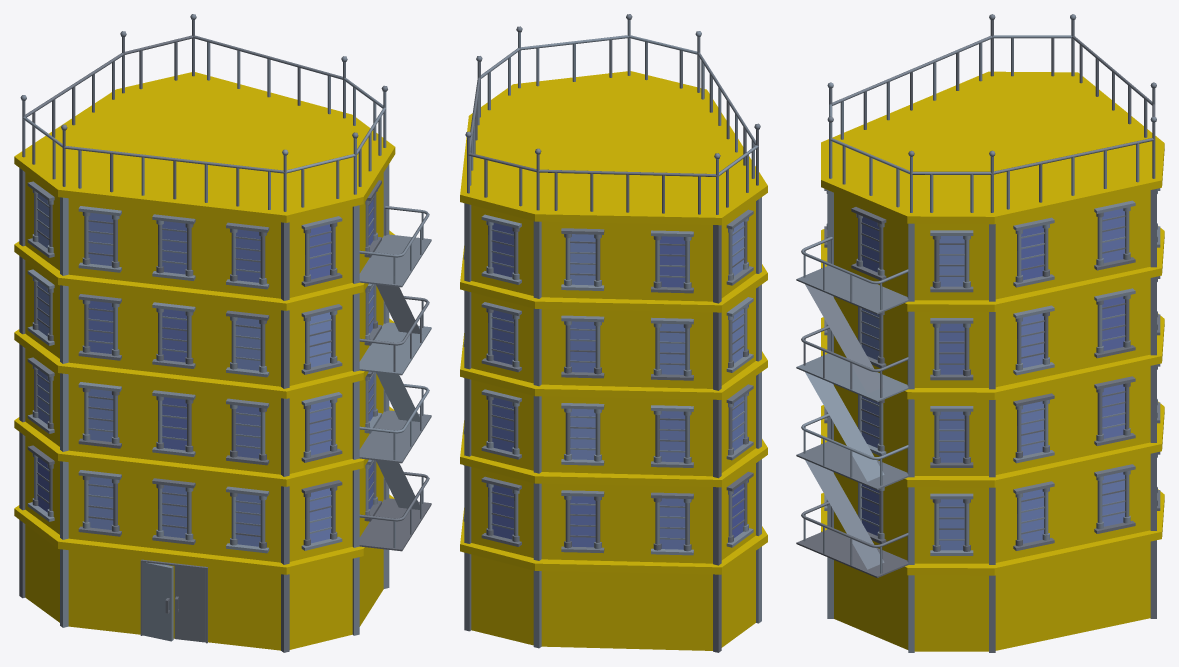
File: Building Procedural.008.fbx
3 renders of one model, left to right at view 1: azimuth 30°, elevation 25°; view 2: azimuth 150°, elevation 25°; view 3: azimuth 270°, elevation 25°, orthographic.
Parts seen in each view (by area): view 1: Building Procedural.008; view 2: Building Procedural.008; view 3: Building Procedural.008.
Part boxes in pixels (x1,y1,x2,y2): Building Procedural.008: (14,14,431,652); Building Procedural.008: (460,14,767,652); Building Procedural.008: (796,14,1164,652).
Bounding box in the file's own units: 1136 × 1710 × 1139.
